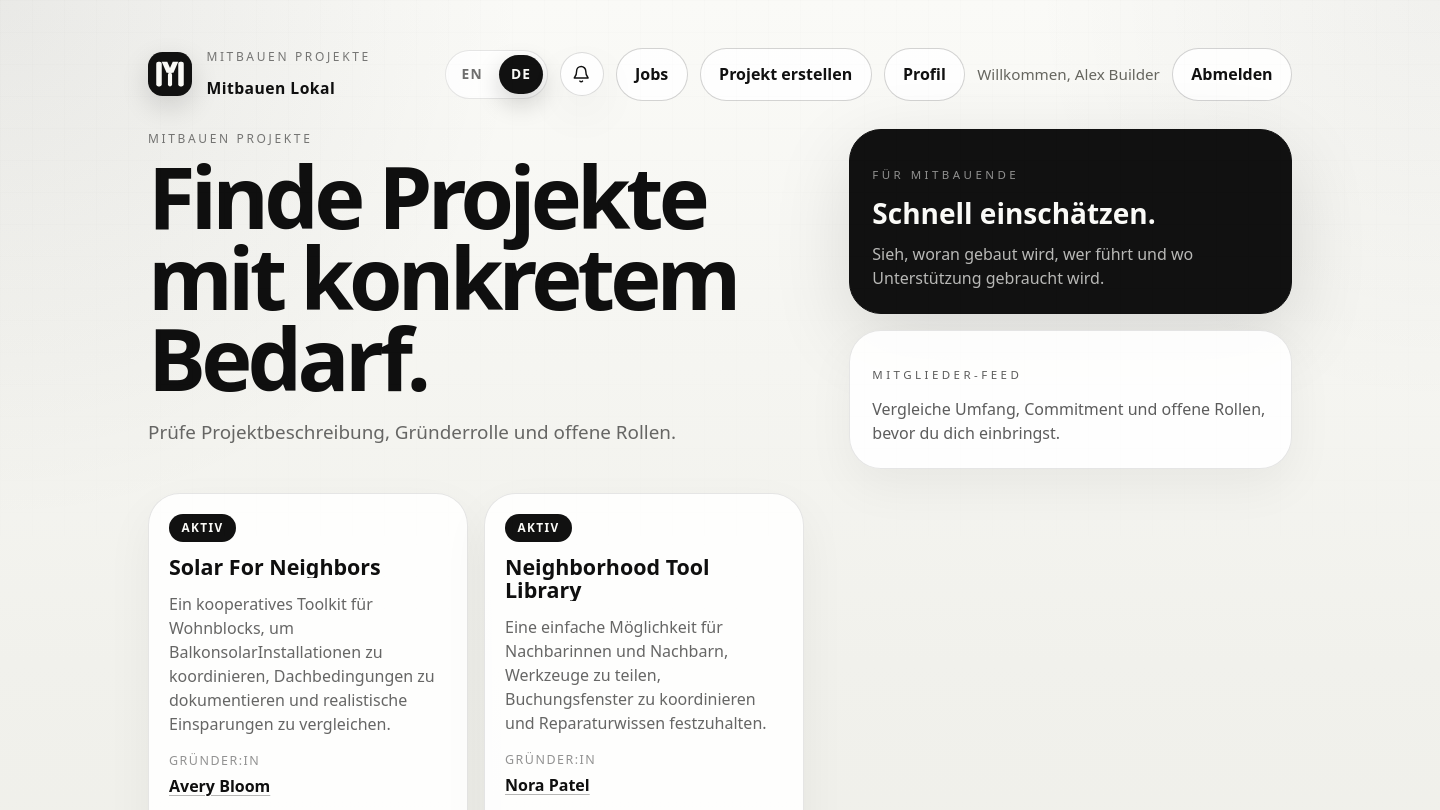
opens a founder profile from the public feed
Click the button "Avery Bloom" at x=220, y=786, box [169,774,270,798]
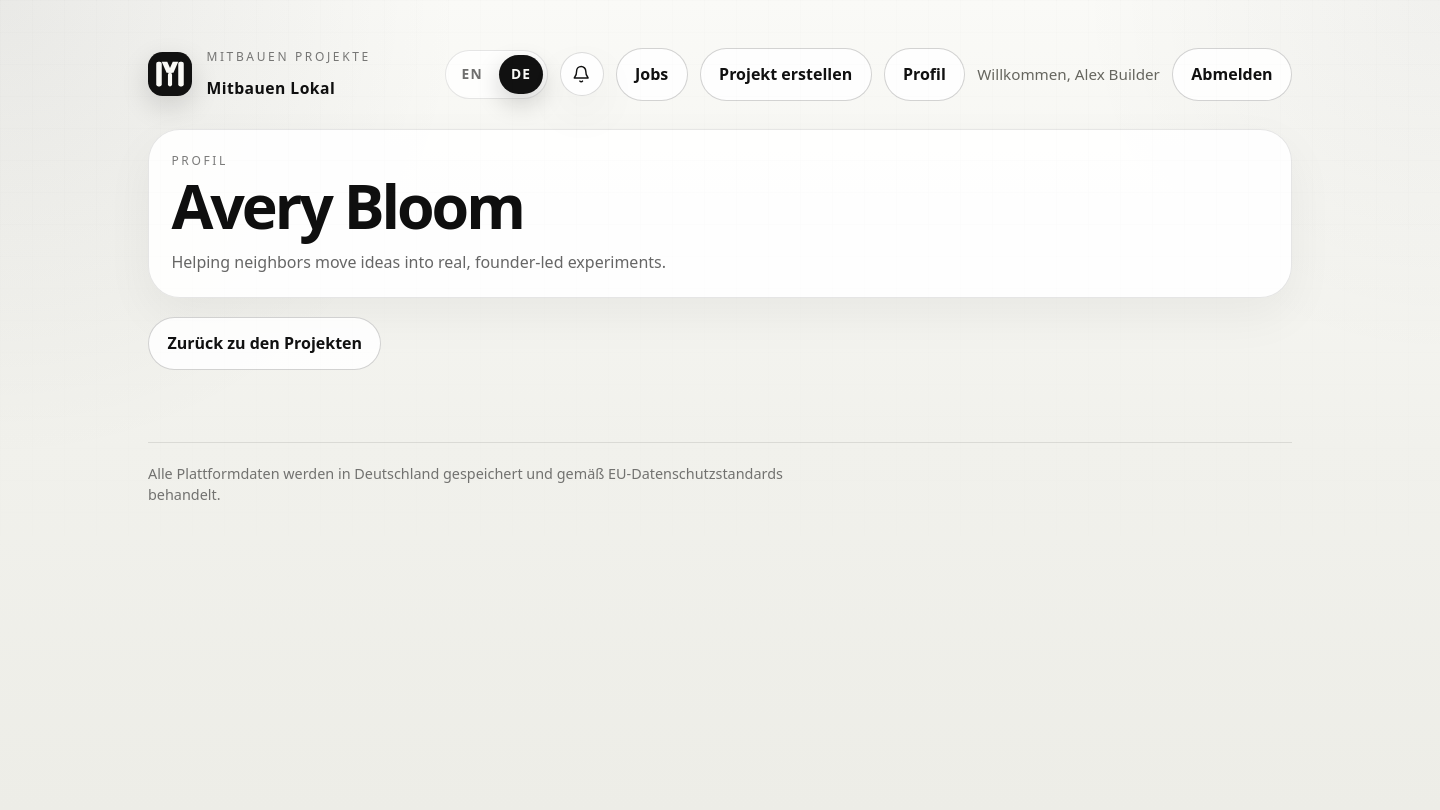
Result: the heading "Avery Bloom" is shown at [171,164,523,248]
